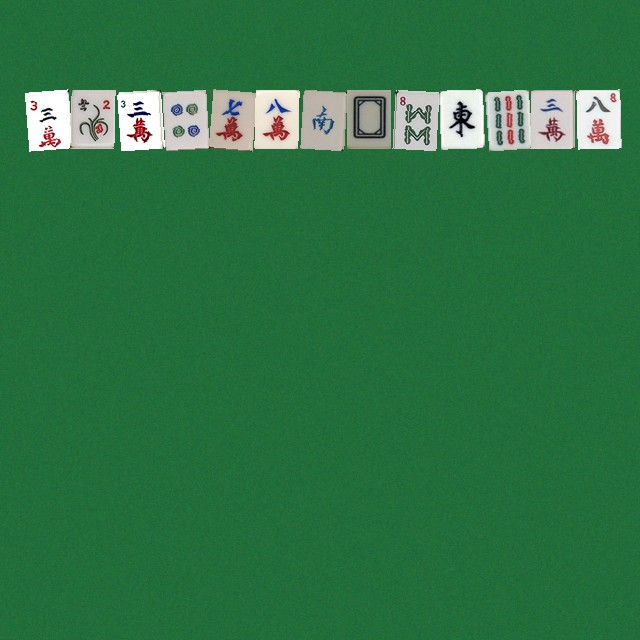tile: (24, 89, 68, 148), (70, 89, 114, 148), (116, 89, 160, 148), (162, 89, 206, 148), (208, 89, 252, 148), (254, 89, 298, 148), (300, 89, 344, 148), (346, 89, 390, 148), (392, 89, 436, 148), (438, 89, 482, 148), (484, 89, 528, 148), (530, 89, 574, 148), (576, 89, 620, 148)
